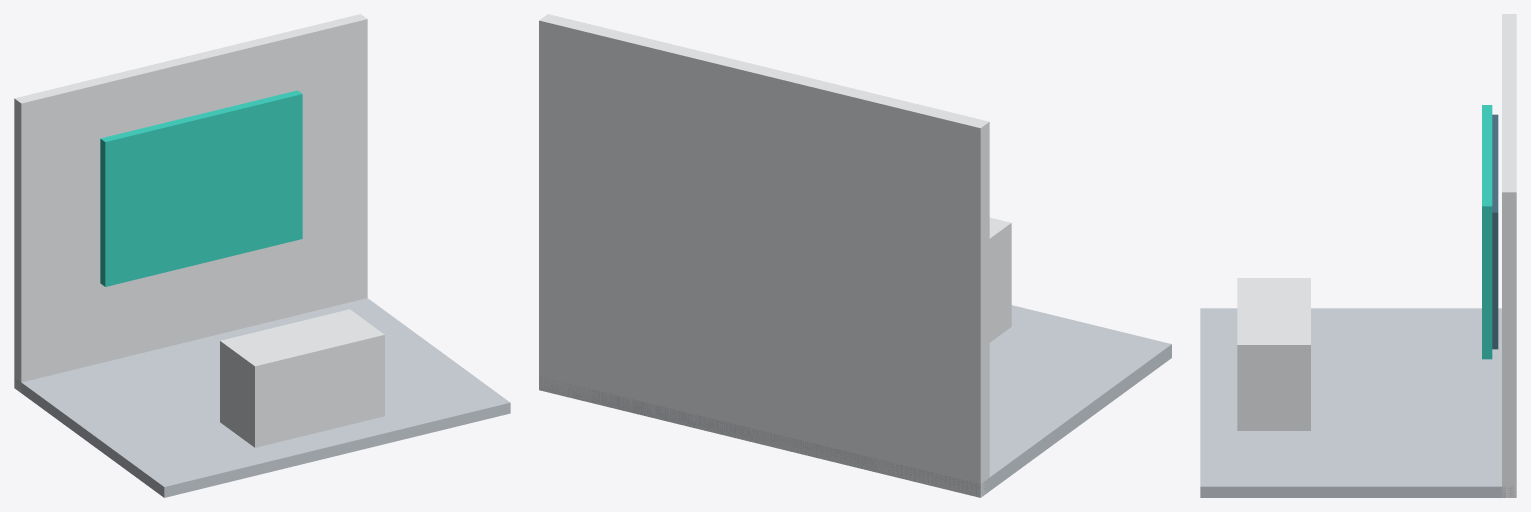
3 views of the same model, side by side, from view 1: azimuth 30°, elevation 25°; view 2: azimuth 150°, elevation 25°; view 3: azimuth 270°, elevation 25° (orthographic). The views are drawn at different scales.
Visible parts, largest first — view 1: Exhibition Booth Concept; view 2: Exhibition Booth Concept; view 3: Exhibition Booth Concept.
Boxes of the visible parts, x1,y1,x2,y2 form: Exhibition Booth Concept: (14, 14, 510, 497); Exhibition Booth Concept: (539, 14, 1171, 497); Exhibition Booth Concept: (1200, 14, 1516, 497).
Bounding box in the file's own units: 4 × 3.2 × 3.
